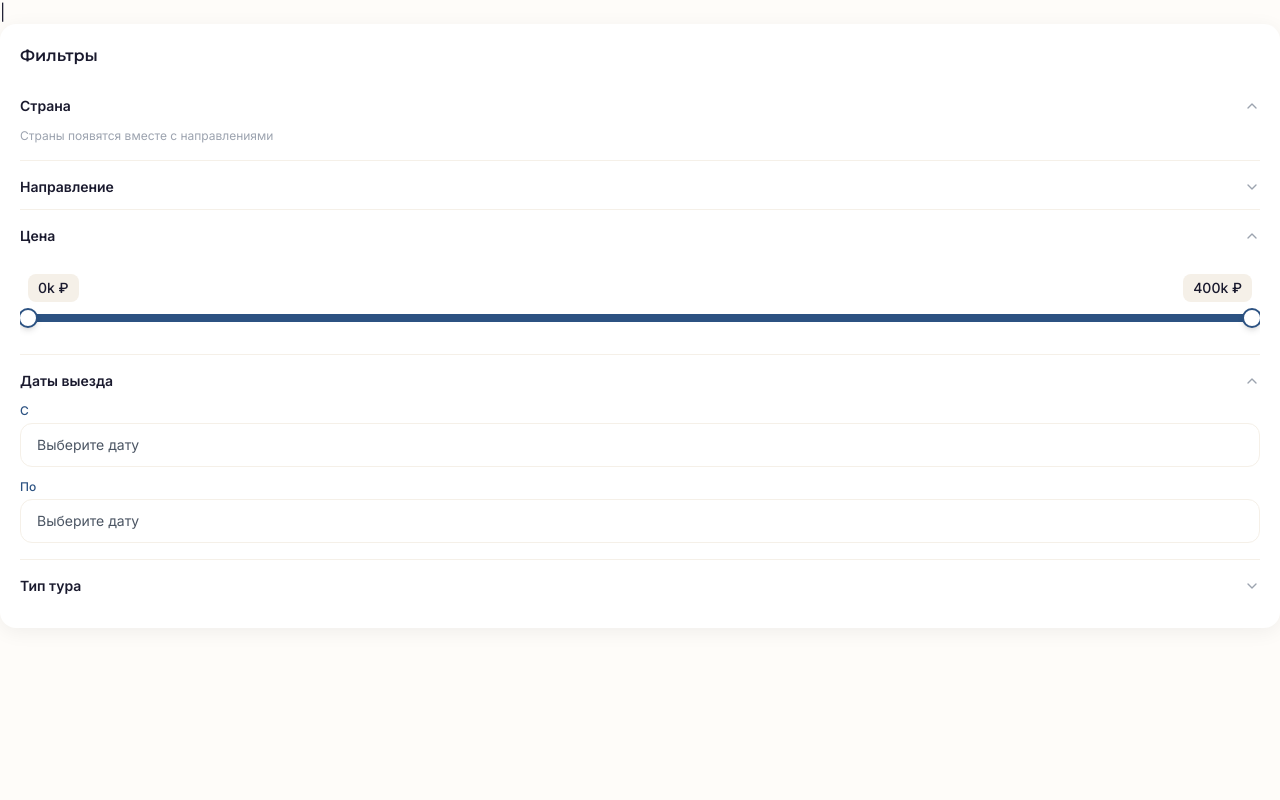
Test: TourFilters dates › writes from and to through the shared calendar and keeps the bounds
Click the button named "С": point(88, 444) [20, 423, 1260, 467]
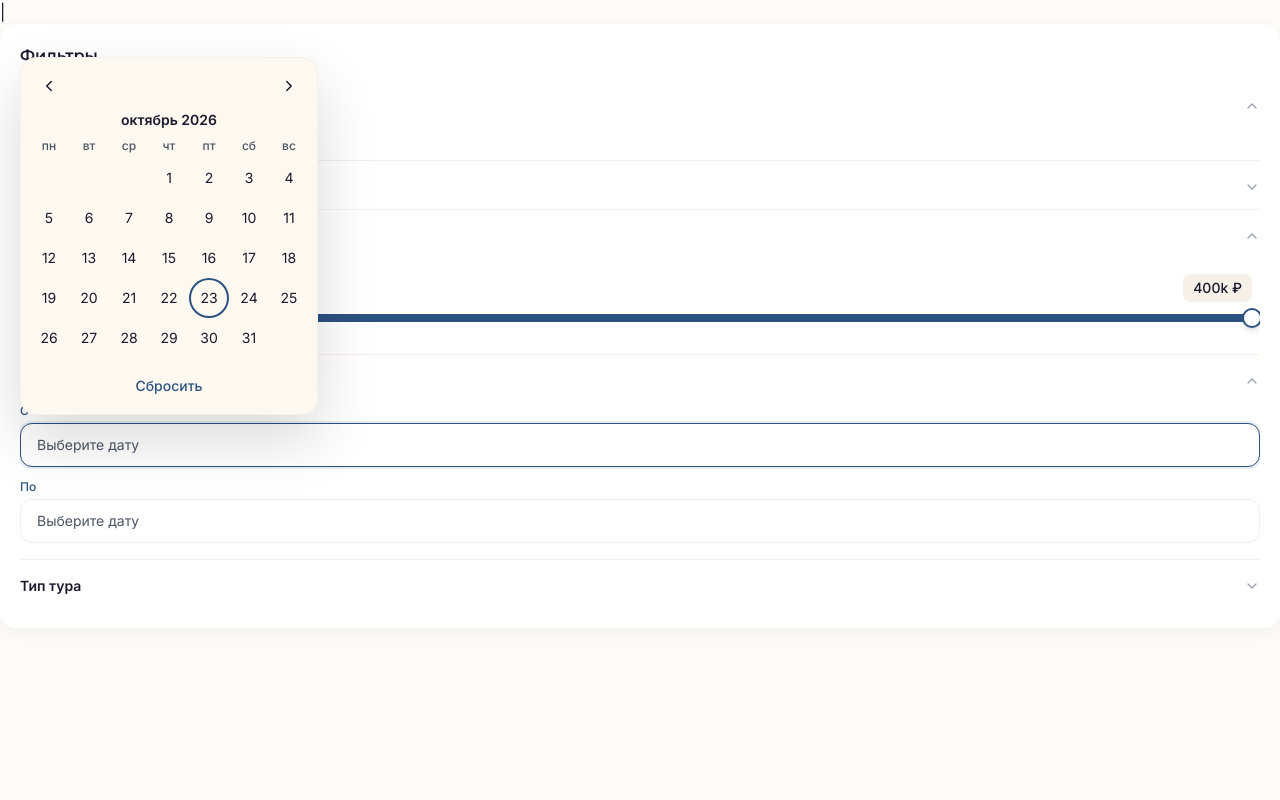
Click the button named "Следующий месяц": point(289, 86) [269, 66, 309, 106]
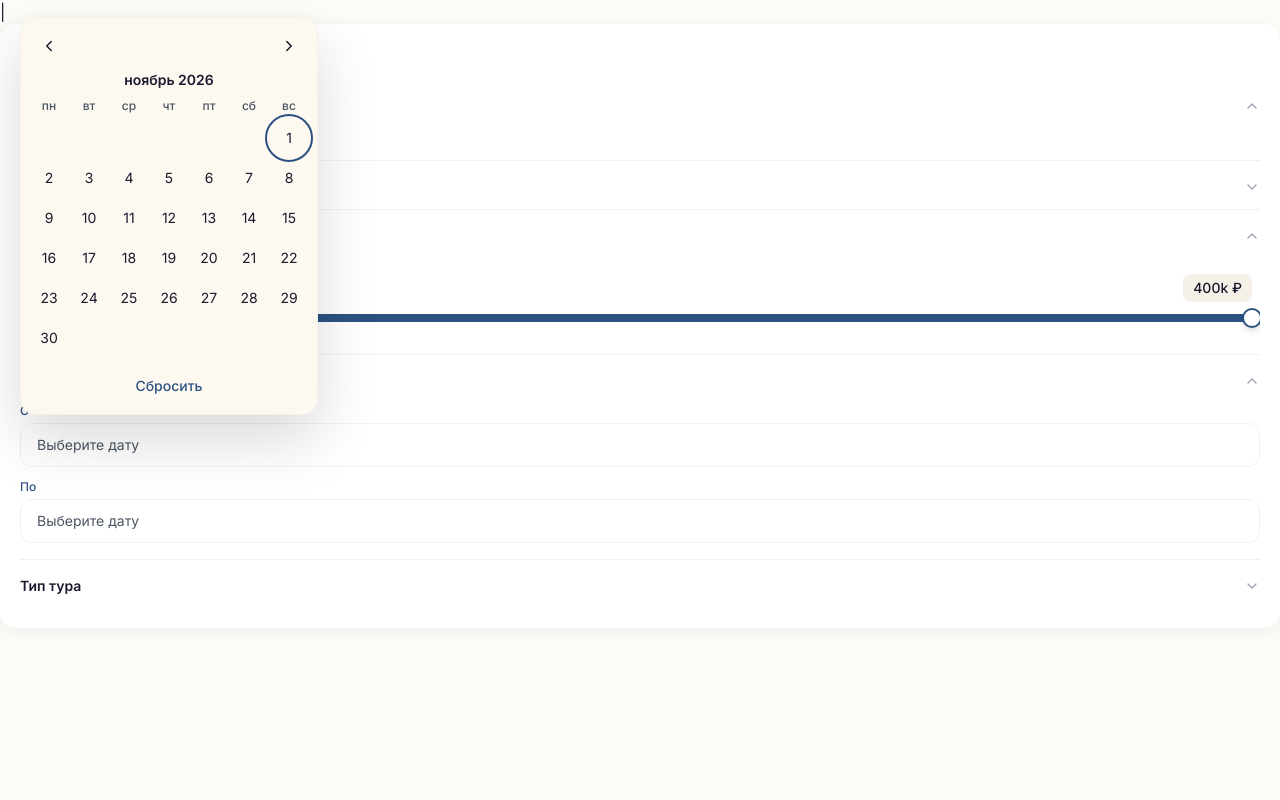
Click the cell named "12 ноября 2026": point(169, 218) [149, 198, 189, 238]
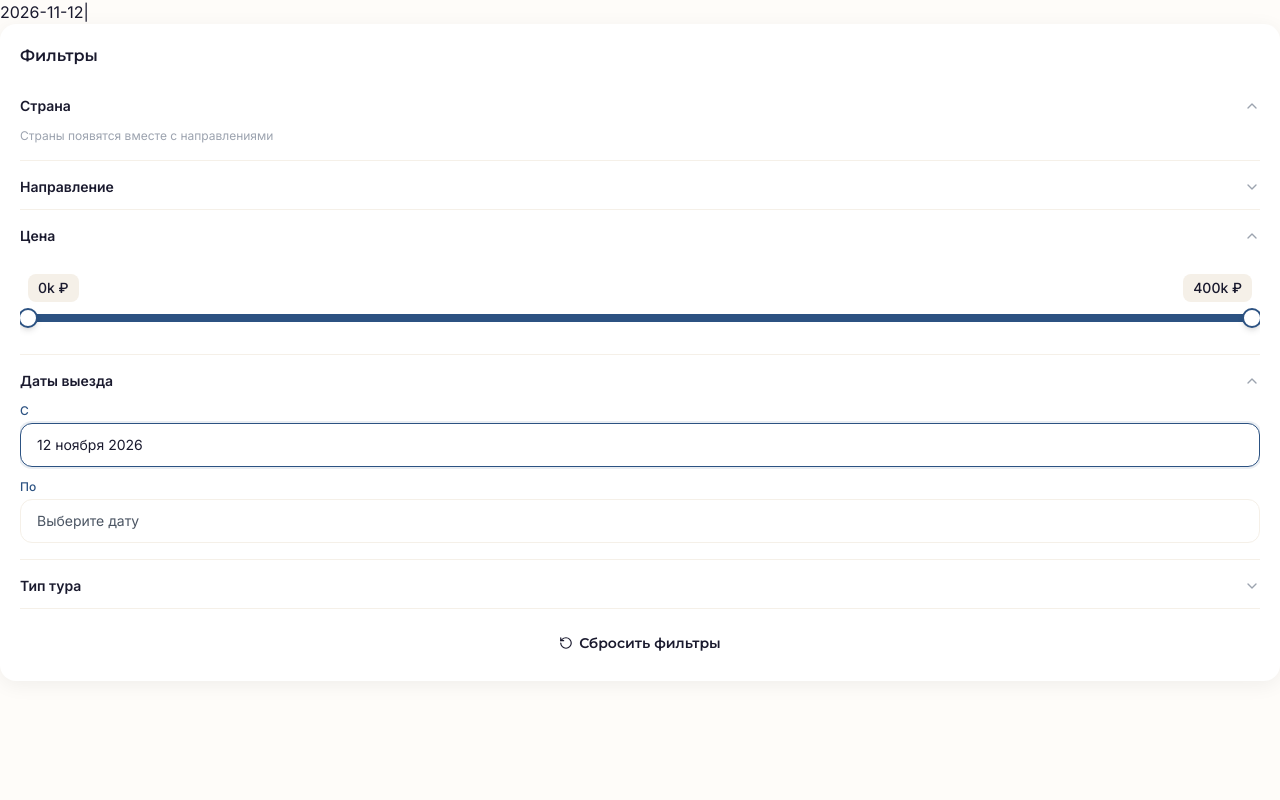
Check: the text with test id "dates" reads "2026-11-12|", box [0, 2, 89, 22]
Check: the dialog is gone
Click the button named "По": point(88, 520) [20, 499, 1260, 543]
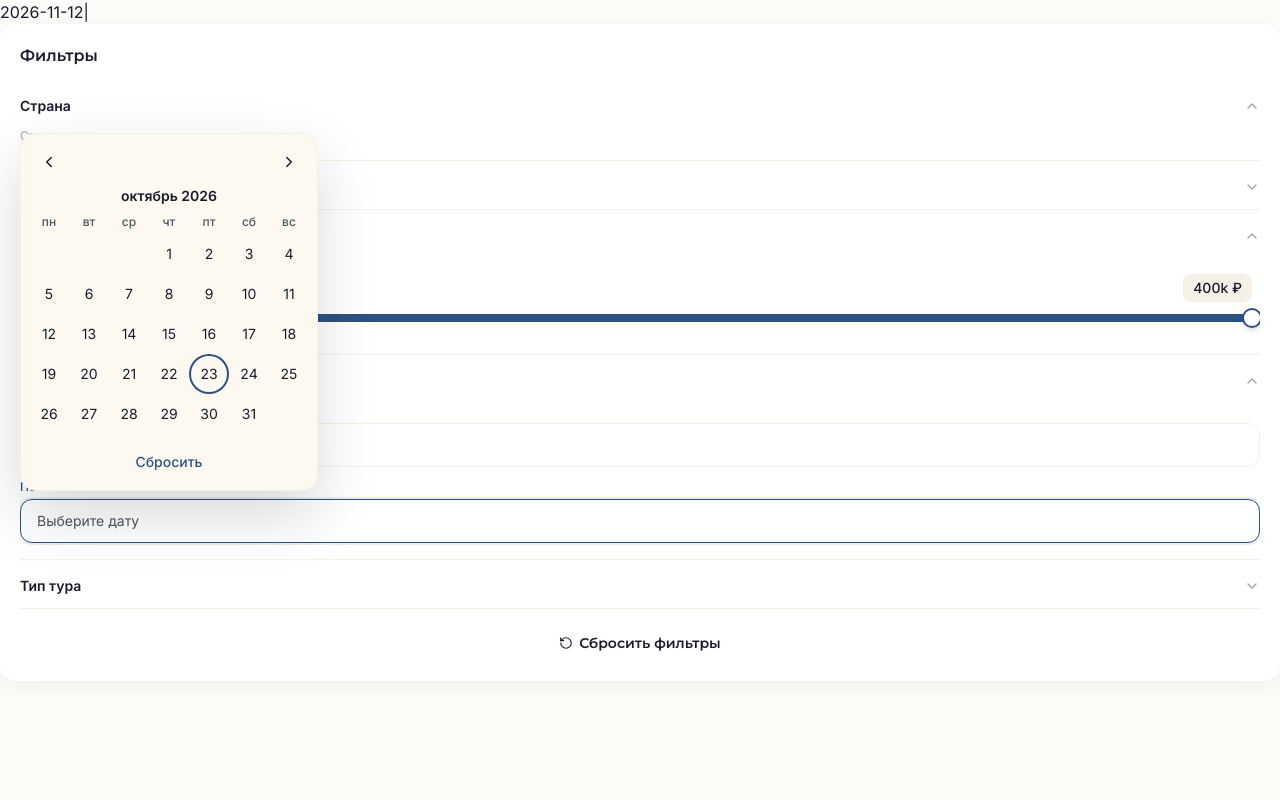
Click the button named "Следующий месяц": point(289, 162) [269, 142, 309, 182]
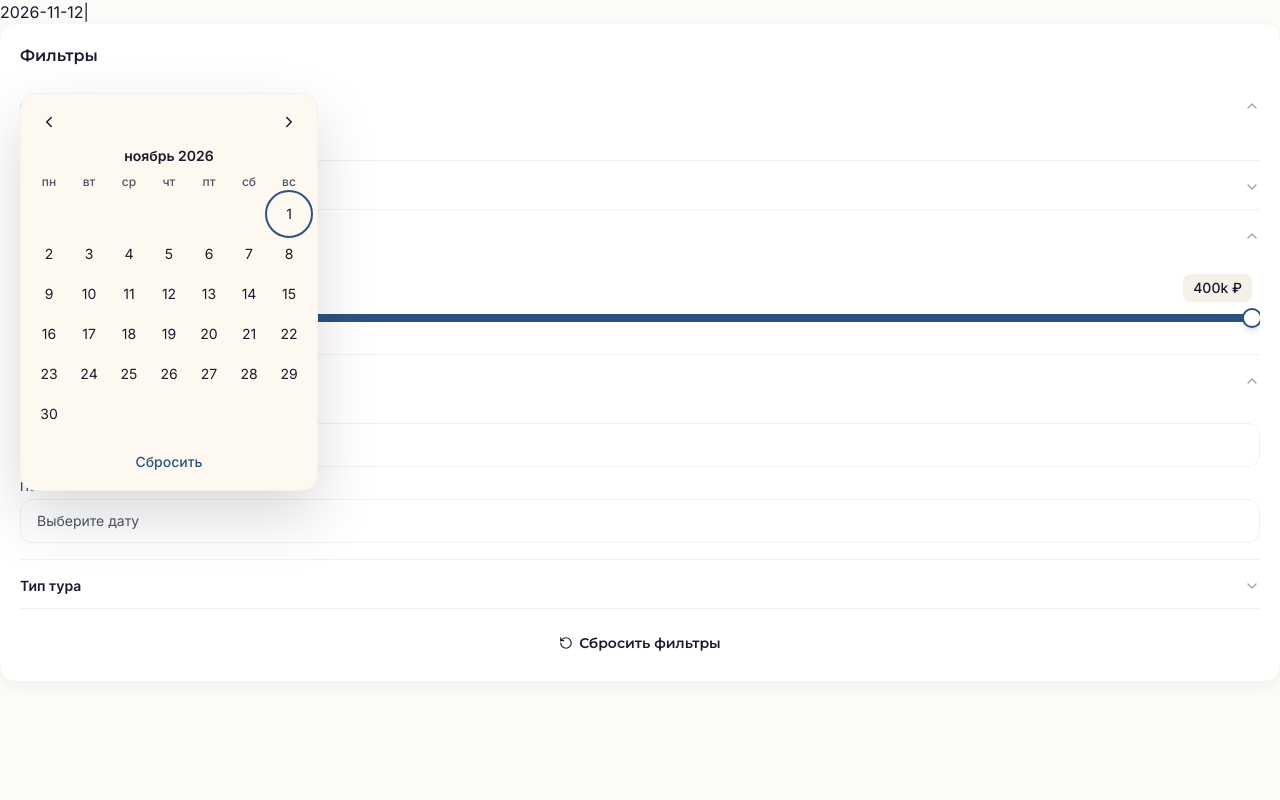
Click the cell named "20 ноября 2026": point(209, 334) [189, 314, 229, 354]
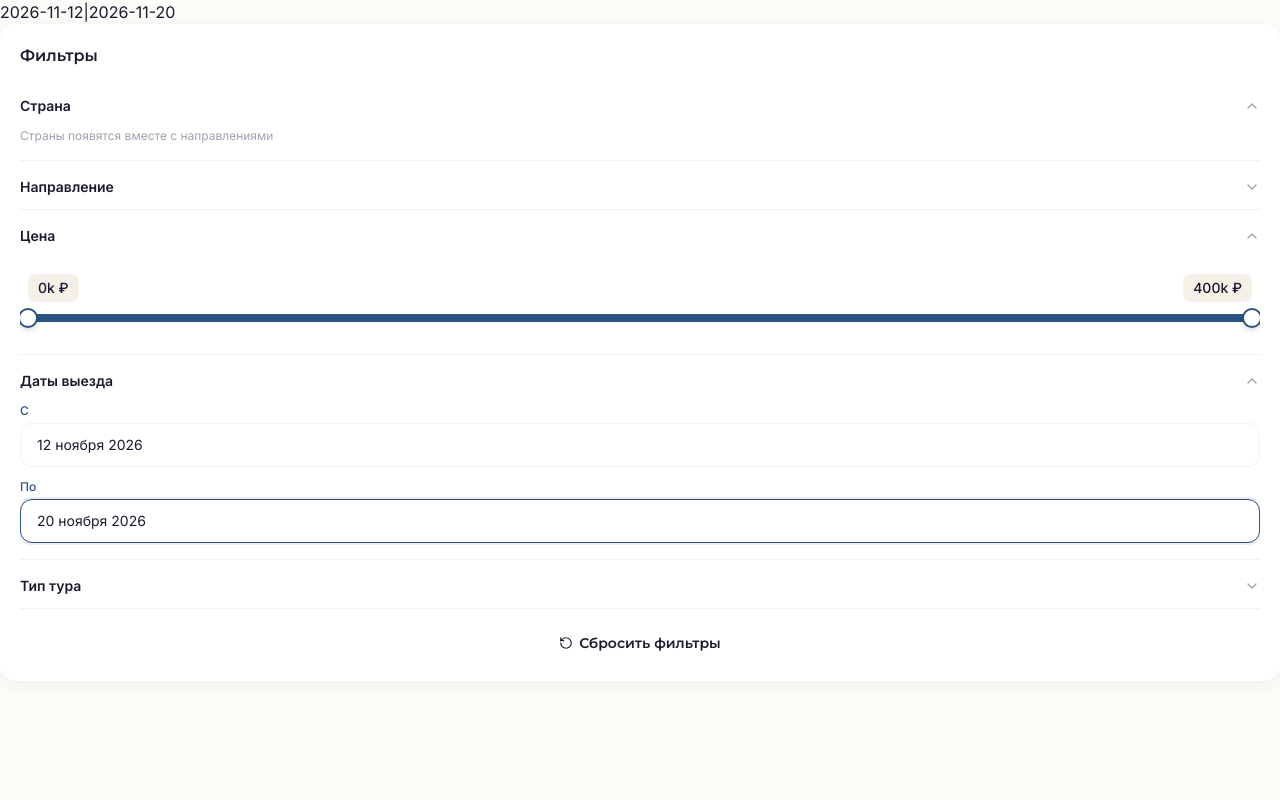
Check: the text with test id "dates" reads "2026-11-12|2026-11-20", box [0, 2, 175, 22]
